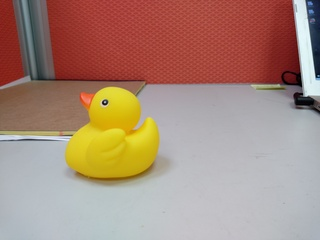duck: (58, 83, 166, 190)
